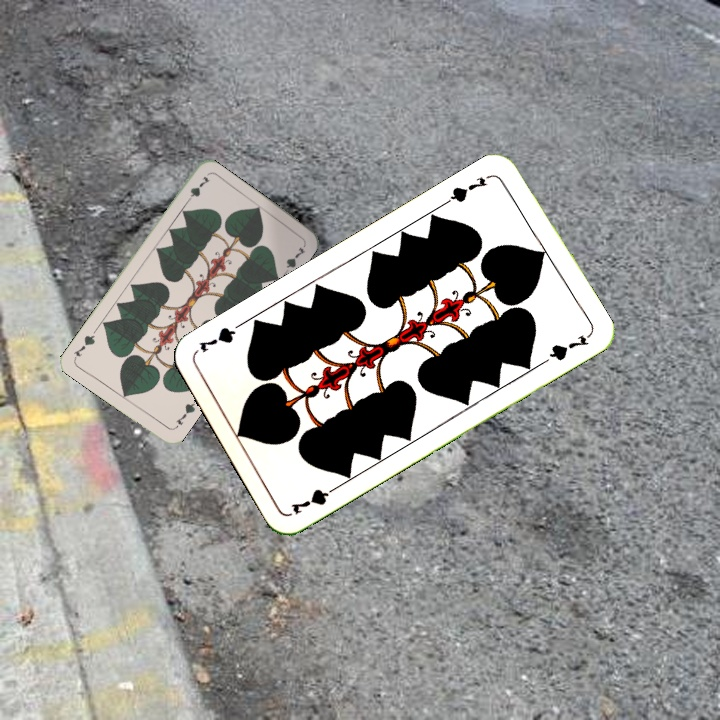G7: (287, 480, 343, 518), (442, 172, 490, 207), (181, 172, 212, 208), (170, 396, 199, 431)
